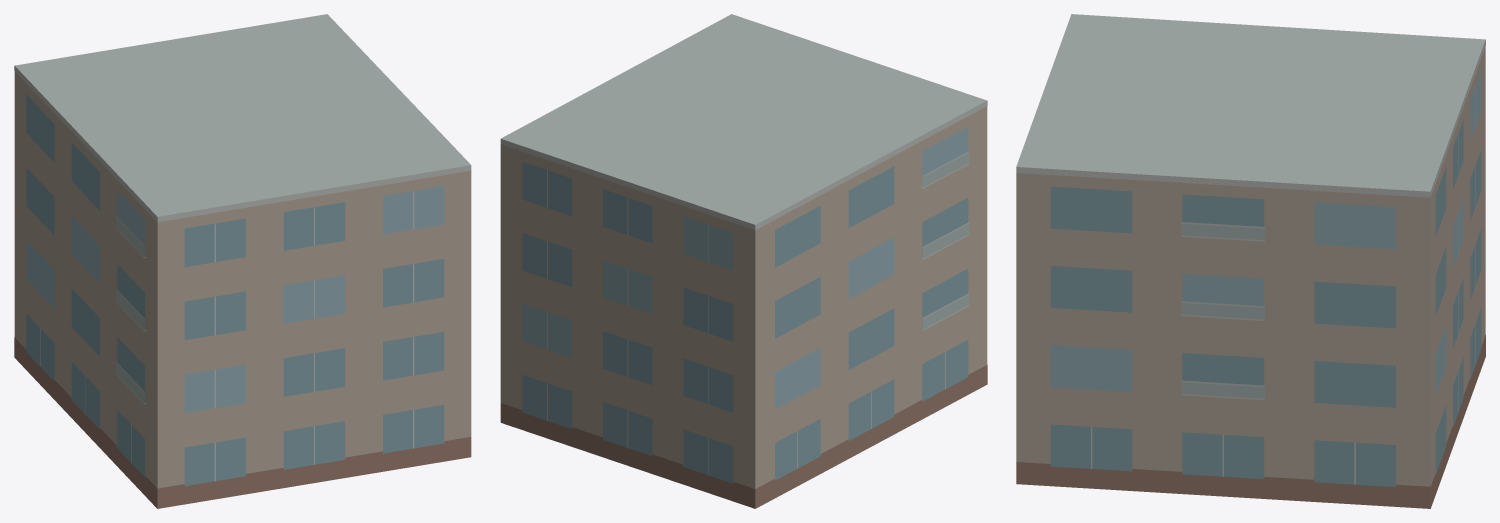
The model's file is survey-upis-32615974.glb.
The picture shows the model from 3 angles, left to right: view 1: azimuth 30°, elevation 25°; view 2: azimuth 150°, elevation 25°; view 3: azimuth 270°, elevation 25°; orthographic projection. The views are drawn at different scales.
Parts seen in each view (by area): view 1: survey-upis-32615974.tmp; view 2: survey-upis-32615974.tmp; view 3: survey-upis-32615974.tmp.
Part boxes in pixels (x1=…): survey-upis-32615974.tmp: x1=14, y1=14, x2=471, y2=508; survey-upis-32615974.tmp: x1=500, y1=14, x2=987, y2=508; survey-upis-32615974.tmp: x1=1016, y1=14, x2=1485, y2=508.
Bounding box in the file's own units: 15.45 × 12.85 × 17.25.
